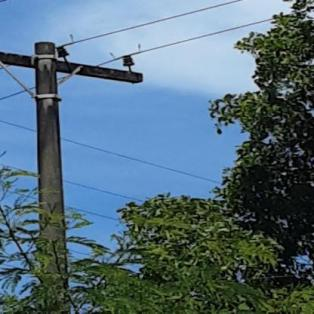Poste: (28, 33, 81, 312)
